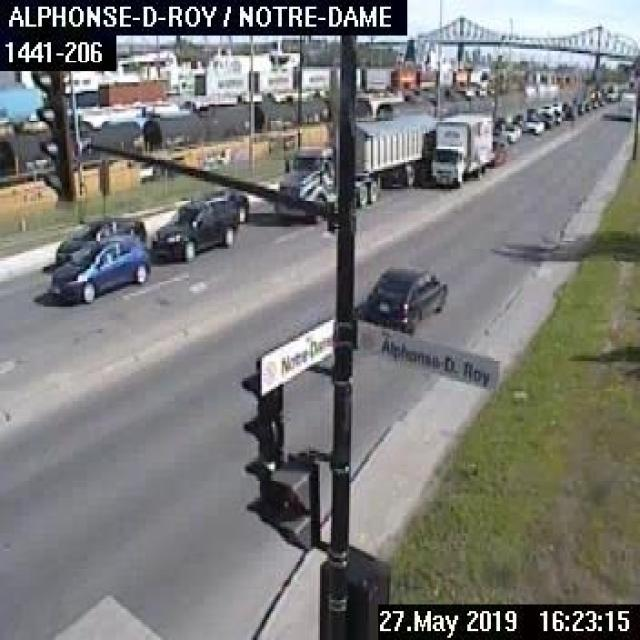vehicle: (274, 110, 437, 223), (49, 231, 150, 302), (148, 196, 236, 264), (52, 209, 149, 265), (427, 110, 493, 188), (364, 266, 446, 328), (202, 188, 248, 223), (617, 88, 635, 120), (499, 122, 521, 142), (522, 114, 544, 134)
